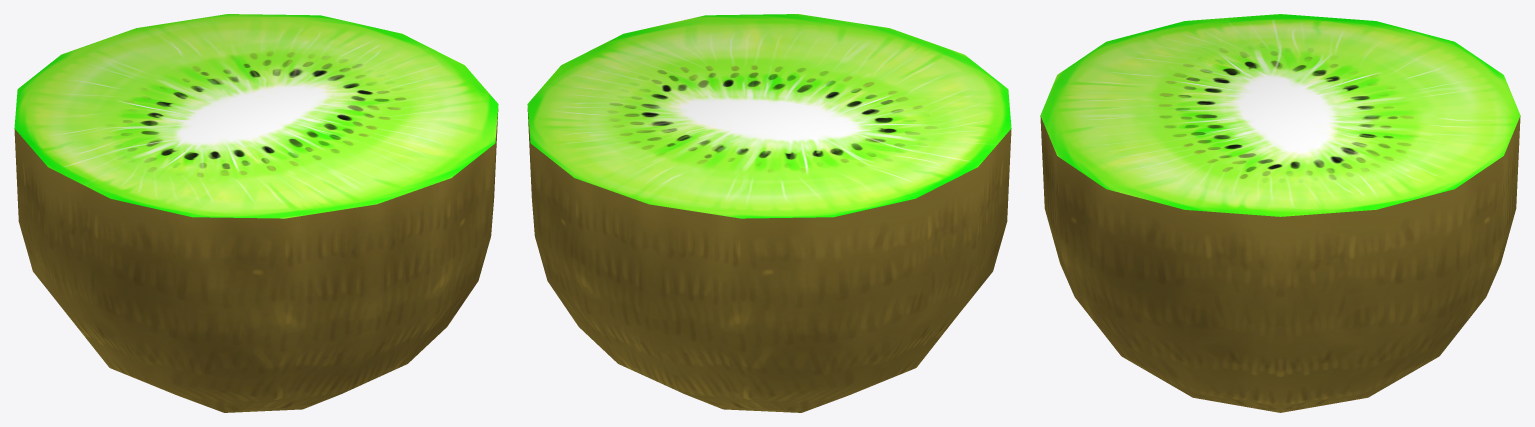
File: kiwi.glb
3 views of the same model, side by side, from view 1: azimuth 30°, elevation 25°; view 2: azimuth 150°, elevation 25°; view 3: azimuth 270°, elevation 25° (orthographic).
Size of the model in its own units: 1.73 by 1.09 by 1.73.
Materials: 1 (1 with a texture image).
